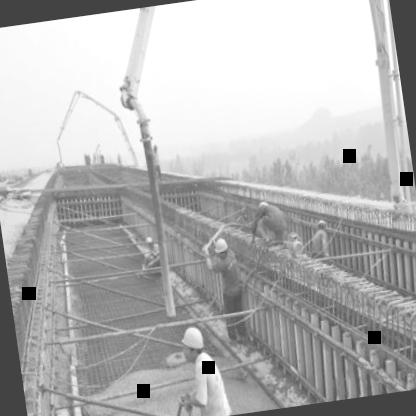helmet: (176, 326, 209, 366), (214, 236, 232, 264), (143, 234, 156, 250)
